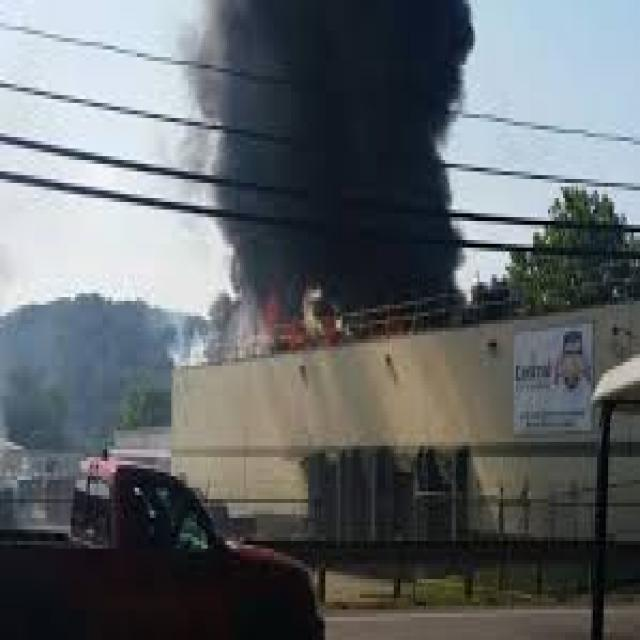smoke: (182, 3, 469, 308)
